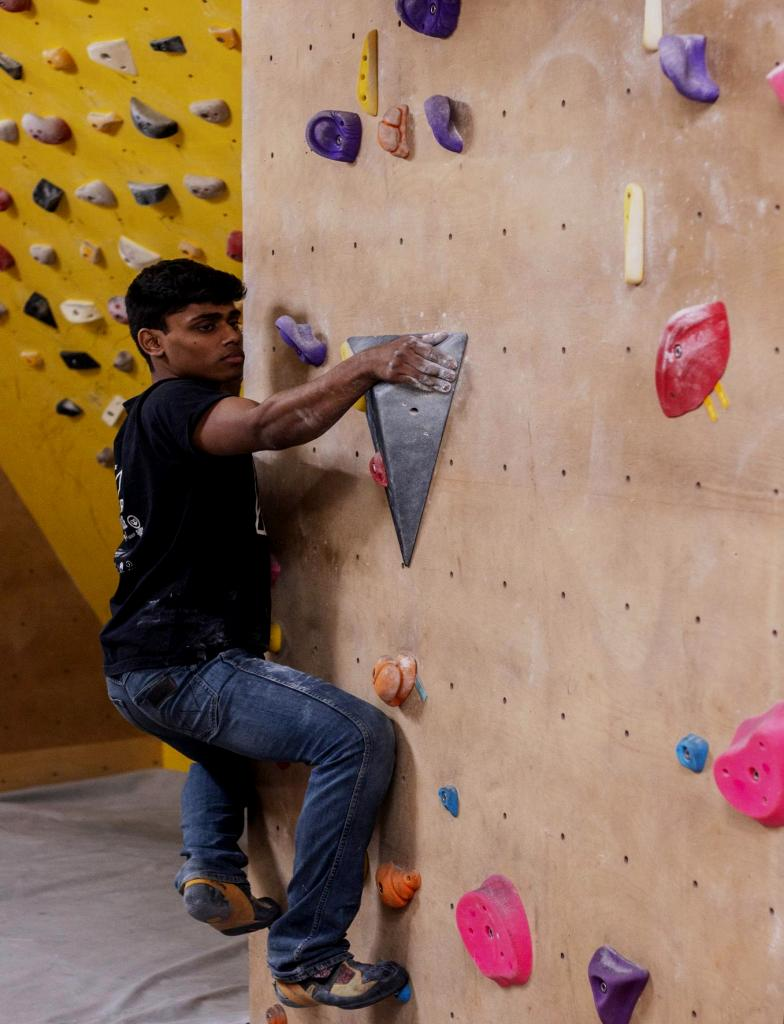jib: (676, 734, 707, 772), (439, 786, 458, 817)
jug: (659, 34, 718, 102), (306, 110, 362, 163), (276, 316, 326, 366), (424, 95, 463, 152)
ledge: (713, 702, 783, 826), (455, 874, 532, 986), (589, 946, 649, 1023)
pinch: (624, 183, 644, 284), (357, 29, 378, 116)
sidepull: (655, 302, 730, 417)
volume: (366, 333, 467, 566), (343, 336, 393, 354)
